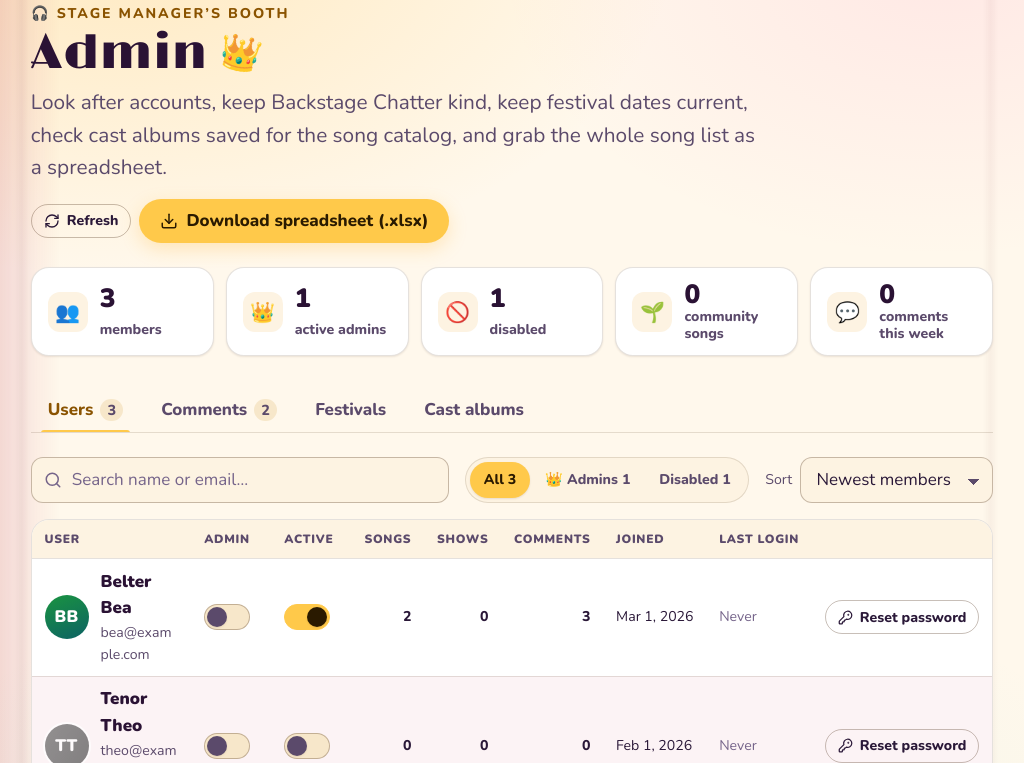
Test case: AdminPage › does nothing when the confirm is cancelled
The image size is (1024, 763).
Click the switch with test id "user-active-switch" at [312, 617], box [284,595,339,639]
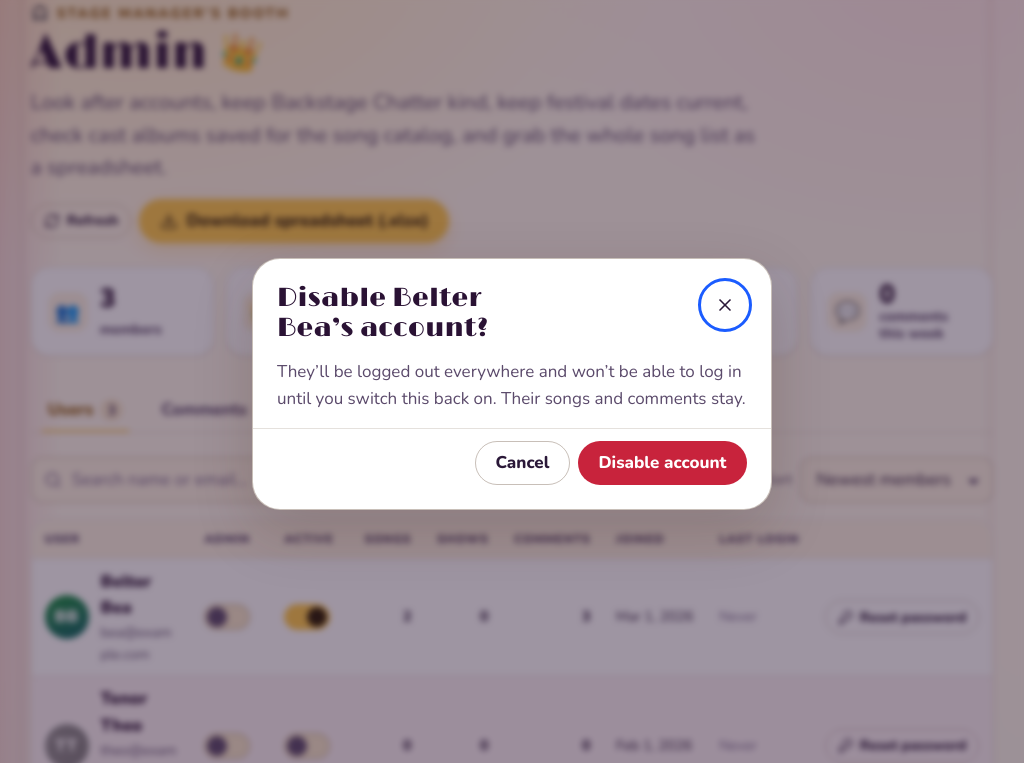
Expected: the heading "Disable Belter Bea’s account?" is shown, [277,282,489,344]
Click the button "Cancel" at [522, 463], box [475,441,570,485]
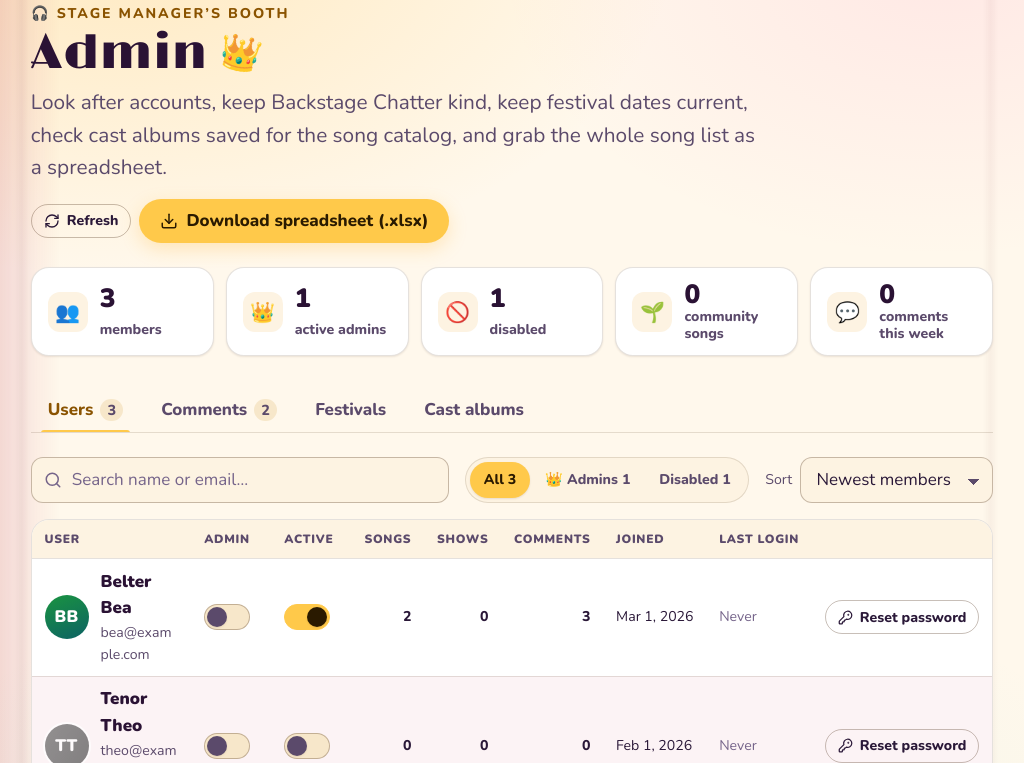
Expected: the button with test id "confirm-button" is gone
